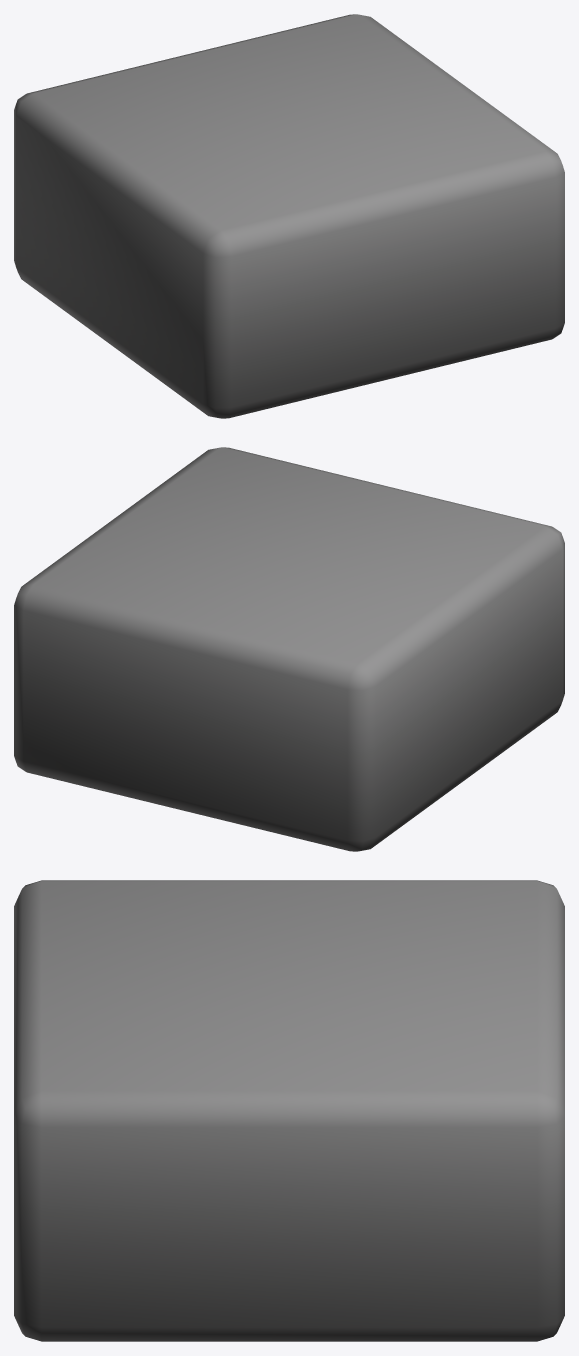
Rendered from 3D_Tile_Dungeon_01A.glb.
3 views of the same model, one above another, from view 1: azimuth 30°, elevation 25°; view 2: azimuth 150°, elevation 25°; view 3: azimuth 270°, elevation 25° (orthographic). The views are drawn at different scales.
Parts seen in each view (by area): view 1: 3D_Tile_Dungeon_01A; view 2: 3D_Tile_Dungeon_01A; view 3: 3D_Tile_Dungeon_01A.
Part boxes in pixels (bbox=[...]): 3D_Tile_Dungeon_01A: bbox=[14, 14, 564, 418]; 3D_Tile_Dungeon_01A: bbox=[14, 447, 564, 851]; 3D_Tile_Dungeon_01A: bbox=[14, 880, 564, 1341].
Bounding box in the file's own units: 2 × 1 × 2.
Materials: 1 (1 with a texture image).
